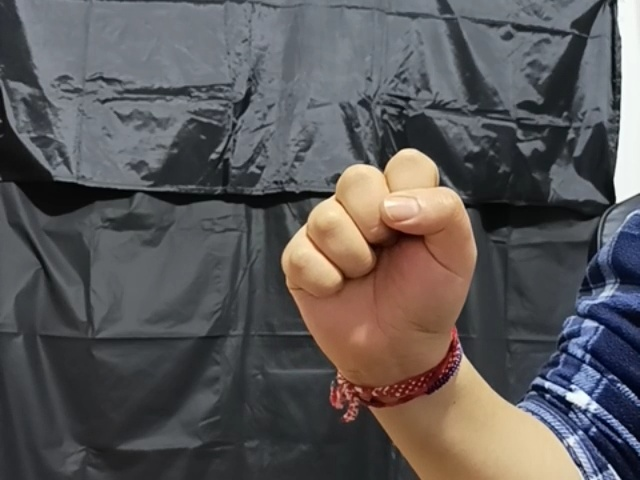S: (265, 142, 478, 351)
